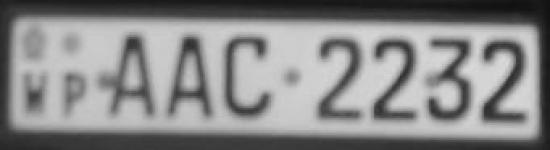2: (369, 30, 426, 126), (477, 31, 533, 128), (316, 30, 366, 127)
3: (426, 34, 477, 128)
A: (107, 27, 162, 124), (165, 32, 216, 127)
C: (218, 30, 275, 120)
P: (57, 66, 90, 119)
W: (21, 66, 52, 118)
